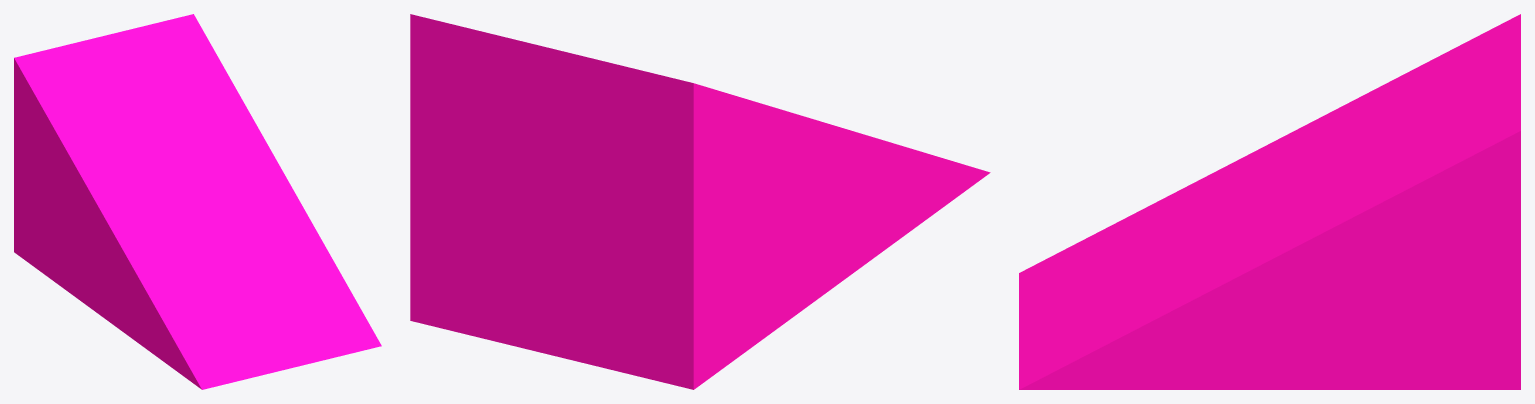
The model's file is BaseRamp.007.glb.
3 views of the same model, side by side, from view 1: azimuth 30°, elevation 25°; view 2: azimuth 150°, elevation 25°; view 3: azimuth 270°, elevation 25° (orthographic). The views are drawn at different scales.
Visible parts, largest first — view 1: BaseRamp.007; view 2: BaseRamp.007; view 3: BaseRamp.007.
Boxes of the visible parts, x1,y1,x2,y2 form: BaseRamp.007: (14,14,381,389); BaseRamp.007: (410,14,990,389); BaseRamp.007: (1019,14,1520,389).
Size of what is drawn, in the model's own units: 1.85 by 1.91 by 3.35.
1 material, 1 textured.
